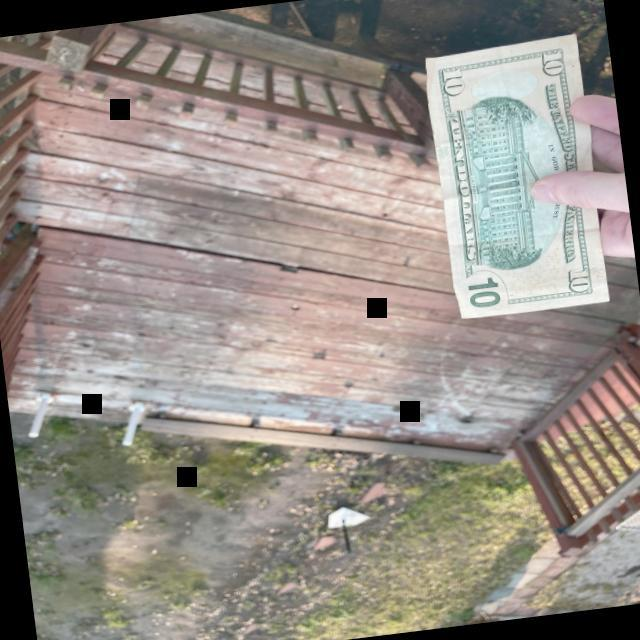ten: (424, 35, 608, 318)
